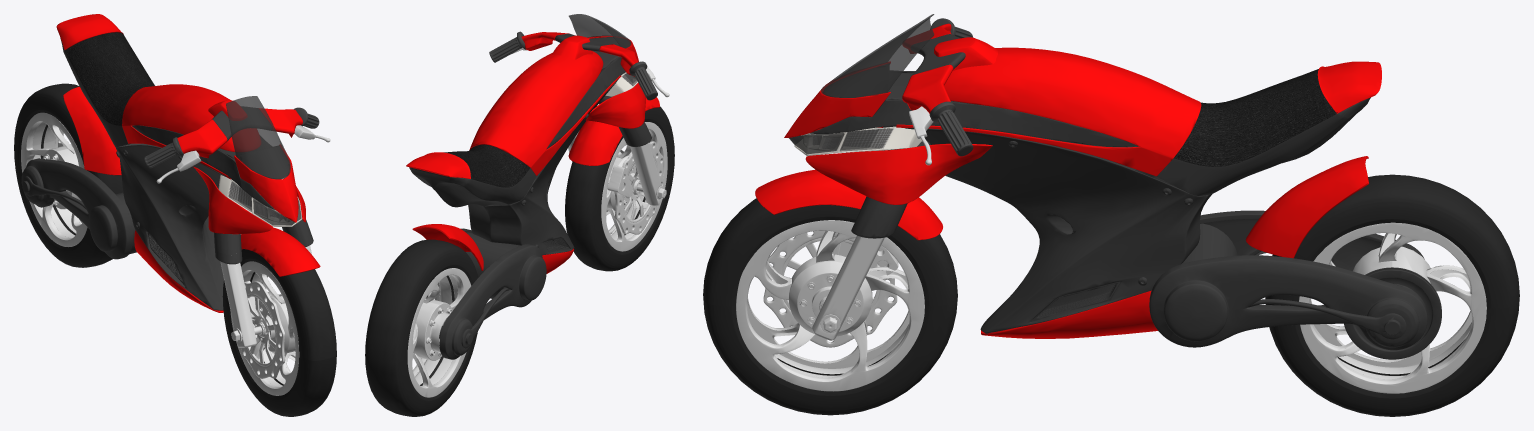
Rendered from bike.glb.
The picture shows the model from 3 angles, left to right: view 1: azimuth 30°, elevation 25°; view 2: azimuth 150°, elevation 25°; view 3: azimuth 270°, elevation 25°; orthographic projection. The views are drawn at different scales.
Visible parts, largest first — view 1: 3DSMeshMatrix (×7), objCylind4, Object_45, Object_48, objObject2, objCylind8, Object_46, Object_49, Object_47, Object_50; view 2: 3DSMeshMatrix (×7), objCylind4, Object_45, objObject2, Object_48, objCylind8, Object_46, Object_49; view 3: objCylind4, 3DSMeshMatrix (×6), Object_45, objObject2, Object_48, objCylind8, Object_49, Object_46, Object_50.
Boxes of the visible parts, x1,y1,x2,y2 form: 3DSMeshMatrix (×7): [14, 83, 336, 416]; objCylind4: [21, 38, 313, 310]; Object_45: [56, 14, 320, 312]; Object_48: [64, 32, 154, 125]; objObject2: [21, 112, 87, 246]; objCylind8: [220, 245, 311, 347]; Object_46: [144, 107, 319, 168]; Object_49: [218, 174, 302, 226]; Object_47: [156, 125, 330, 183]; Object_50: [227, 181, 283, 220]; 3DSMeshMatrix (×7): [365, 14, 674, 416]; objCylind4: [409, 33, 651, 359]; Object_45: [406, 32, 659, 273]; objObject2: [407, 268, 471, 397]; Object_48: [444, 144, 530, 187]; objCylind8: [568, 132, 666, 205]; Object_46: [489, 31, 657, 100]; Object_49: [605, 72, 637, 96]; objCylind4: [810, 34, 1441, 359]; 3DSMeshMatrix (×6): [703, 14, 1519, 416]; Object_45: [755, 23, 1381, 338]; objObject2: [1299, 222, 1486, 393]; Object_48: [1174, 69, 1336, 166]; objCylind8: [812, 235, 884, 340]; Object_49: [794, 126, 921, 155]; Object_46: [929, 18, 973, 156]; Object_50: [813, 128, 893, 148].
Size of what is drawn, in the model's own units: 113 by 178 by 336.
Materials: 9 (2 with a texture image).
